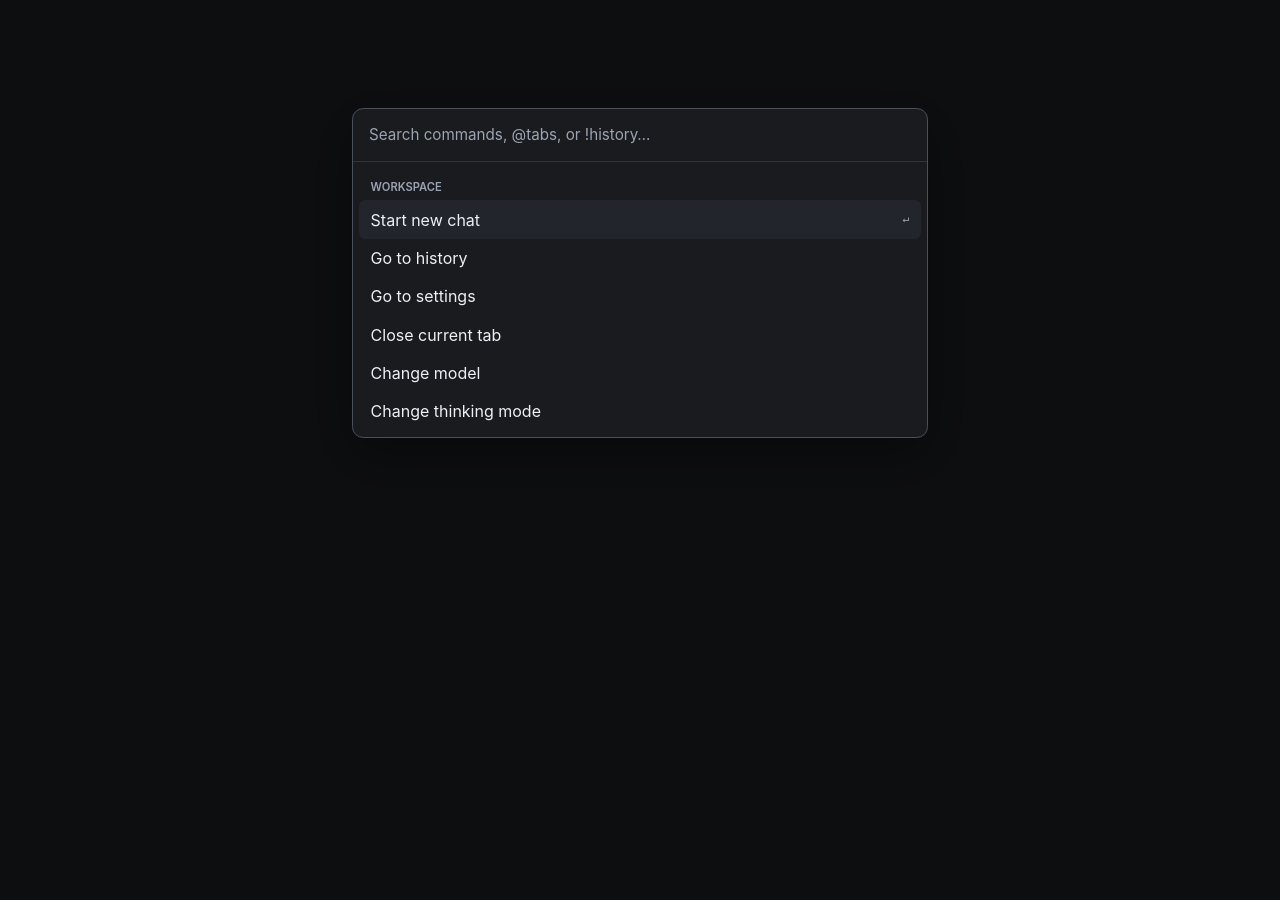
Test: WorkspaceCommandMenu › marks the routed tab as current when the workspace has a base path
Expected: the dialog is shown, [352,108,928,438]
Type "@" into the dropdown.
click(640, 135); type("@")  # box [353,109,927,161]
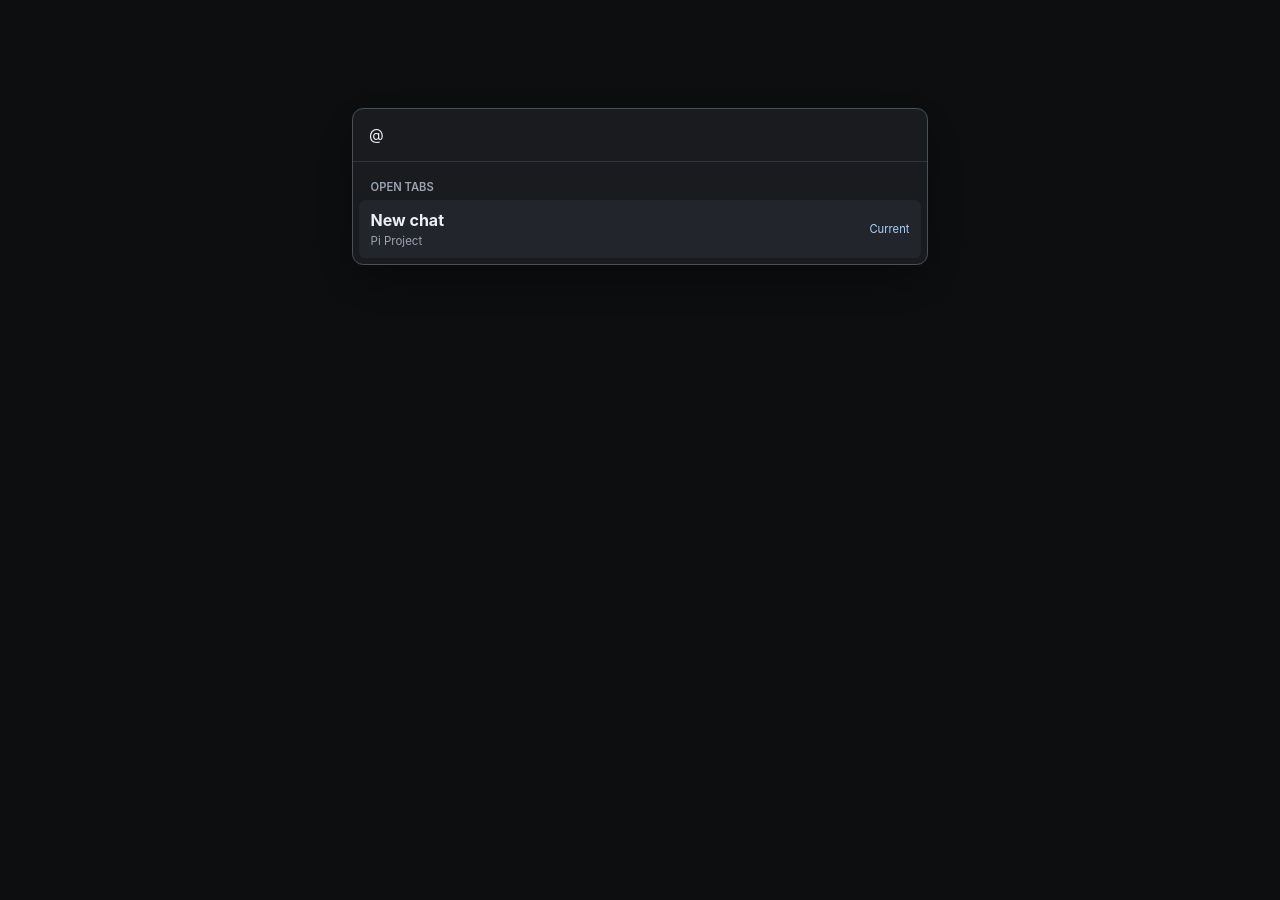
Expected: the option "New chat Pi Project Current" is shown, [359,200,921,258]
